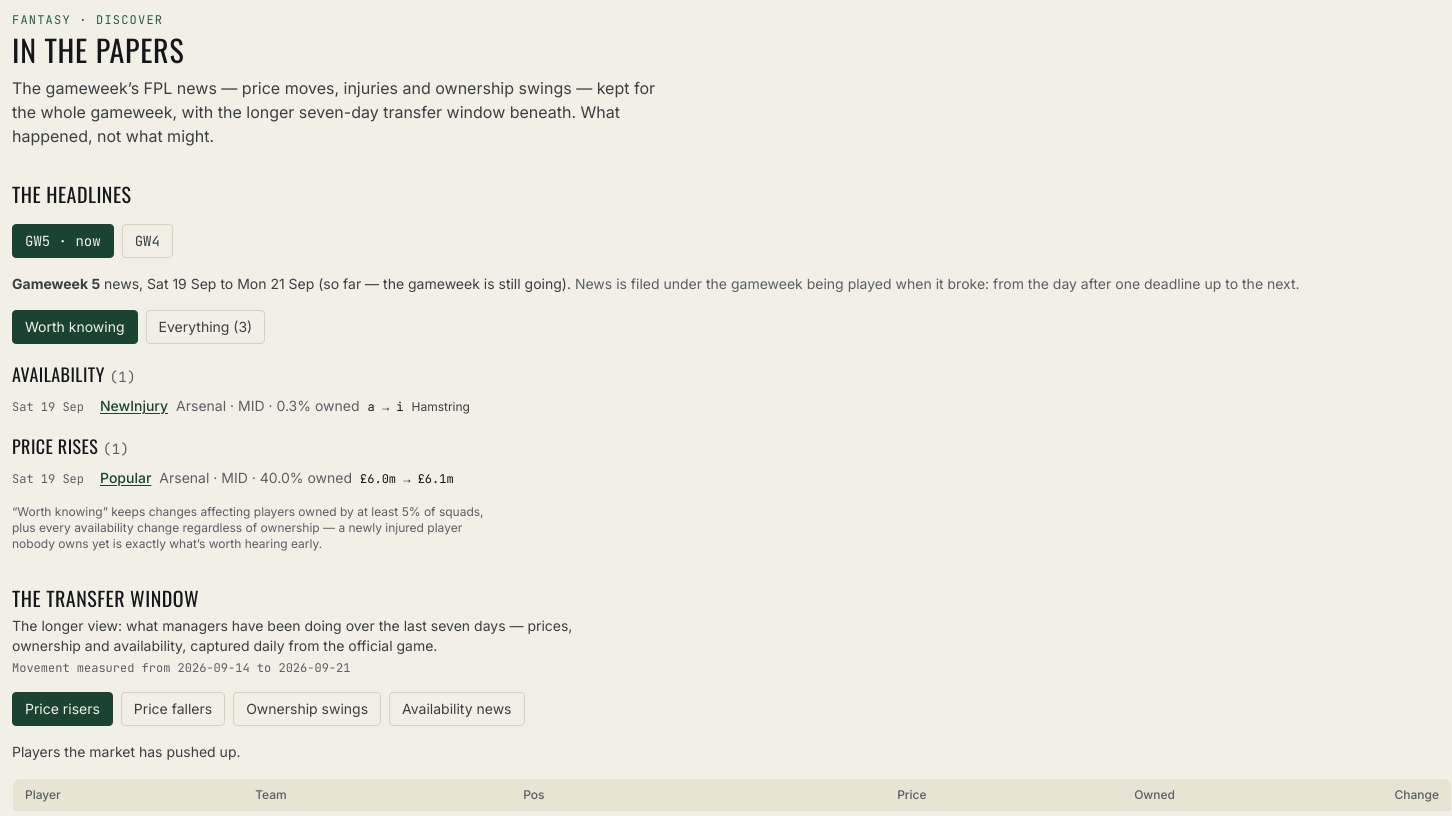
Test: In the papers › keeps availability changes regardless of ownership, but filters small-fry price moves
Check: the link "NewInjury" is shown, box [100,397,168,414]
Check: the text "Fringe" is not shown
Click the button "Everything (3)": (205, 327) [146,310,265,344]
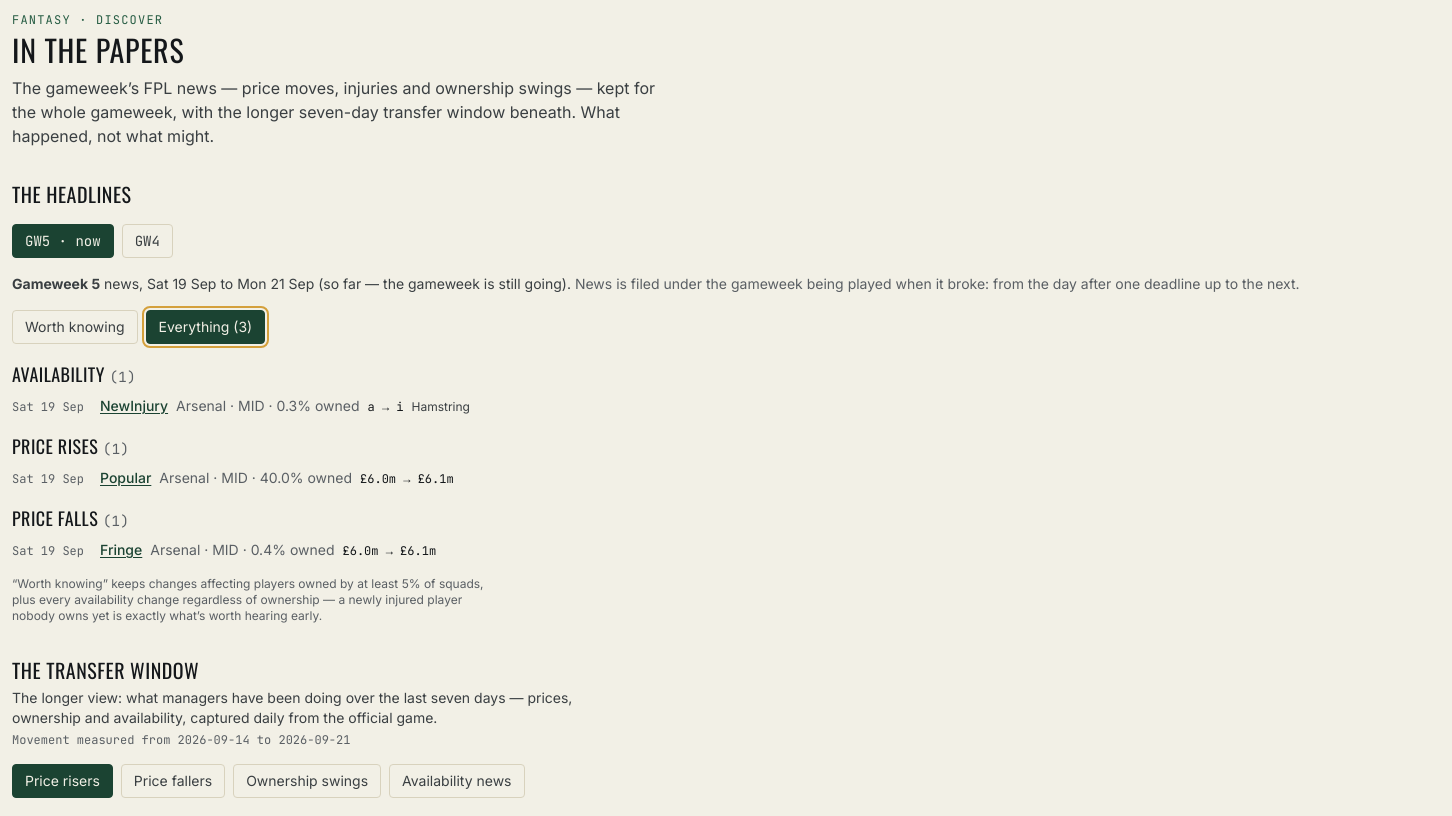
Check: the link "Fringe" is shown, box [100,541,142,558]
